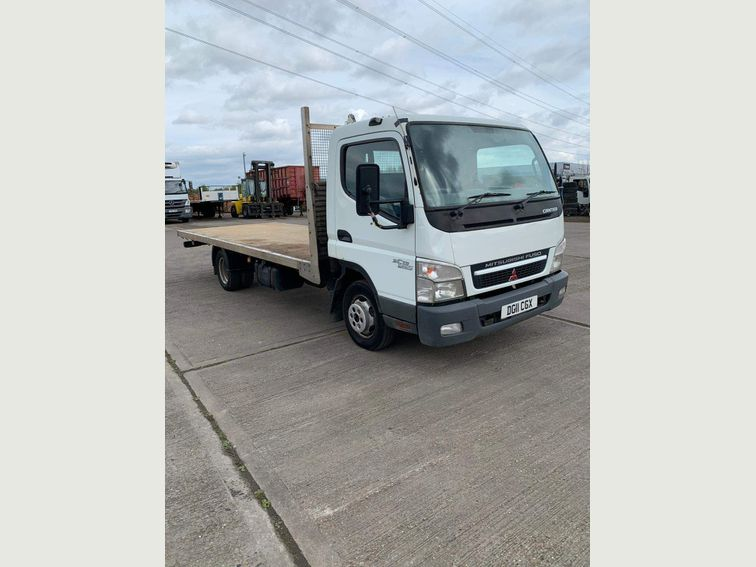Semi: (178, 104, 568, 351)
